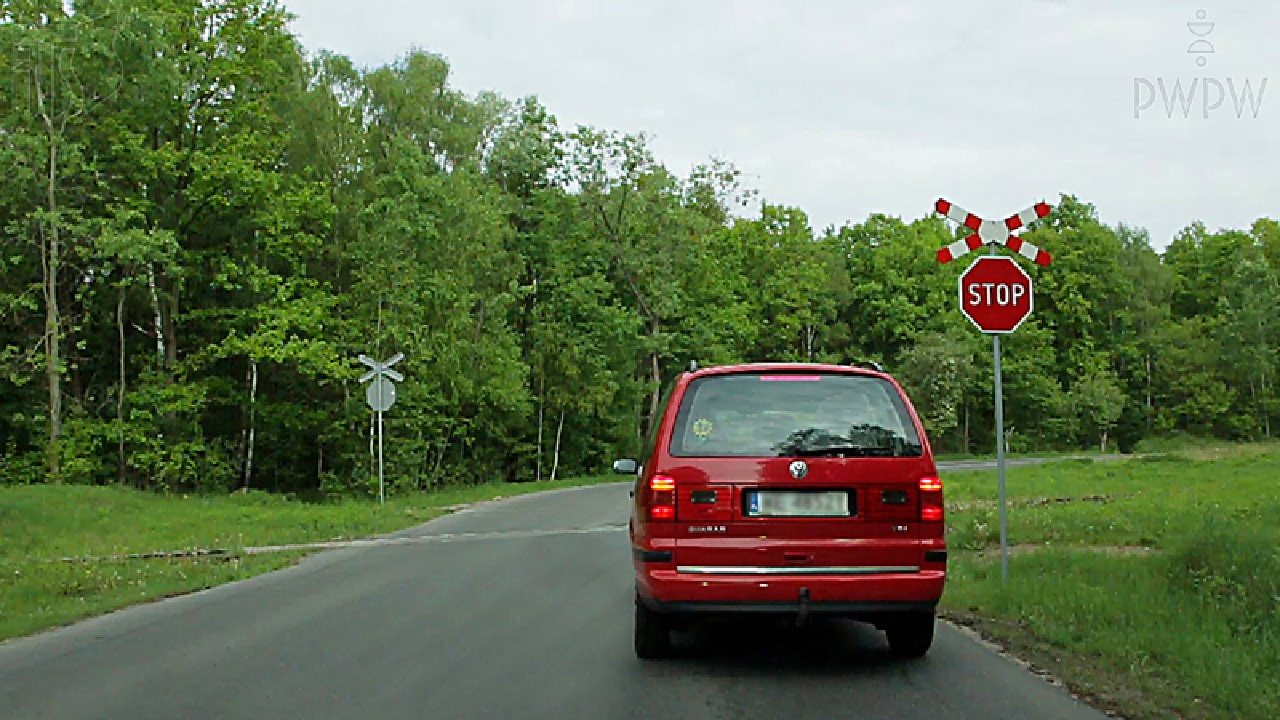B20: (958, 255, 1033, 332)
